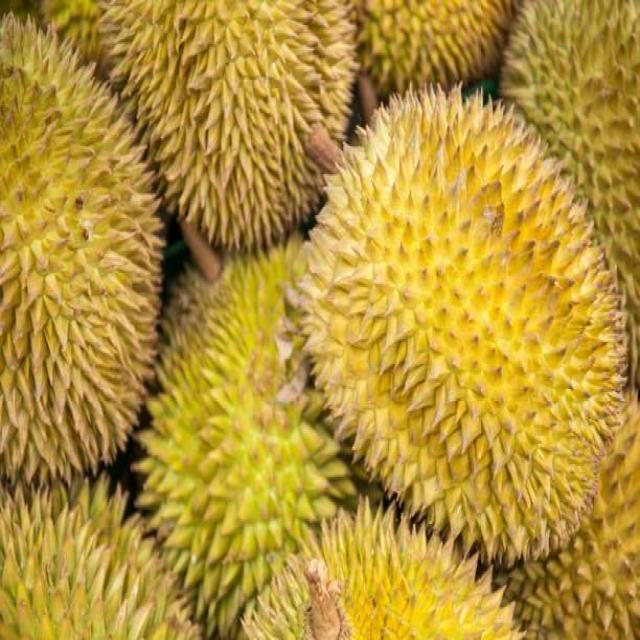mature: (302, 88, 625, 563)
